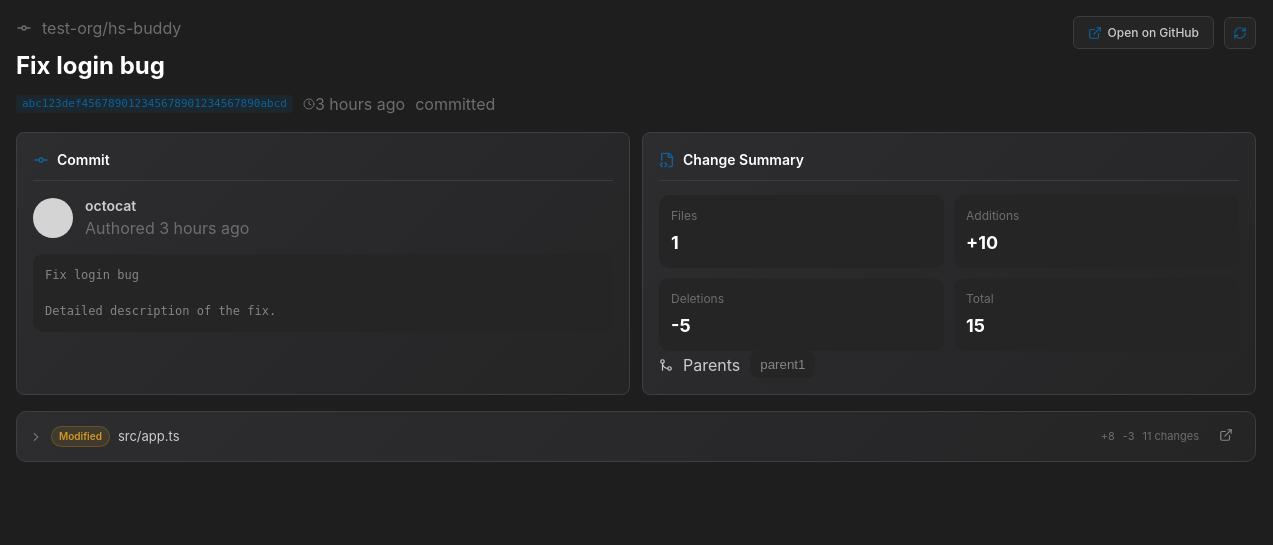
RepoCommitDetailPanel › toggles file expansion on click
The image size is (1273, 545).
expect the text "src/app.ts" is shown: met, box [118,427,180,446]
Click the button "modified src/app.ts +8 -3 11 changes". click: point(80, 436)
box: [29,426,1199,447]
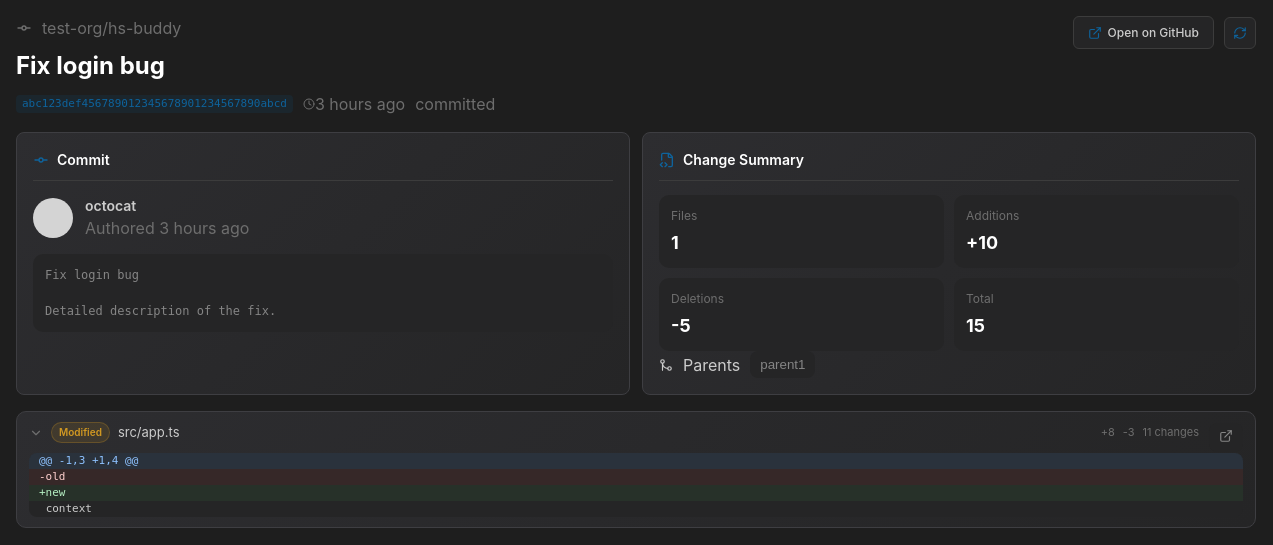
expect the text "-old" is shown: met, box [29,469,1243,485]
